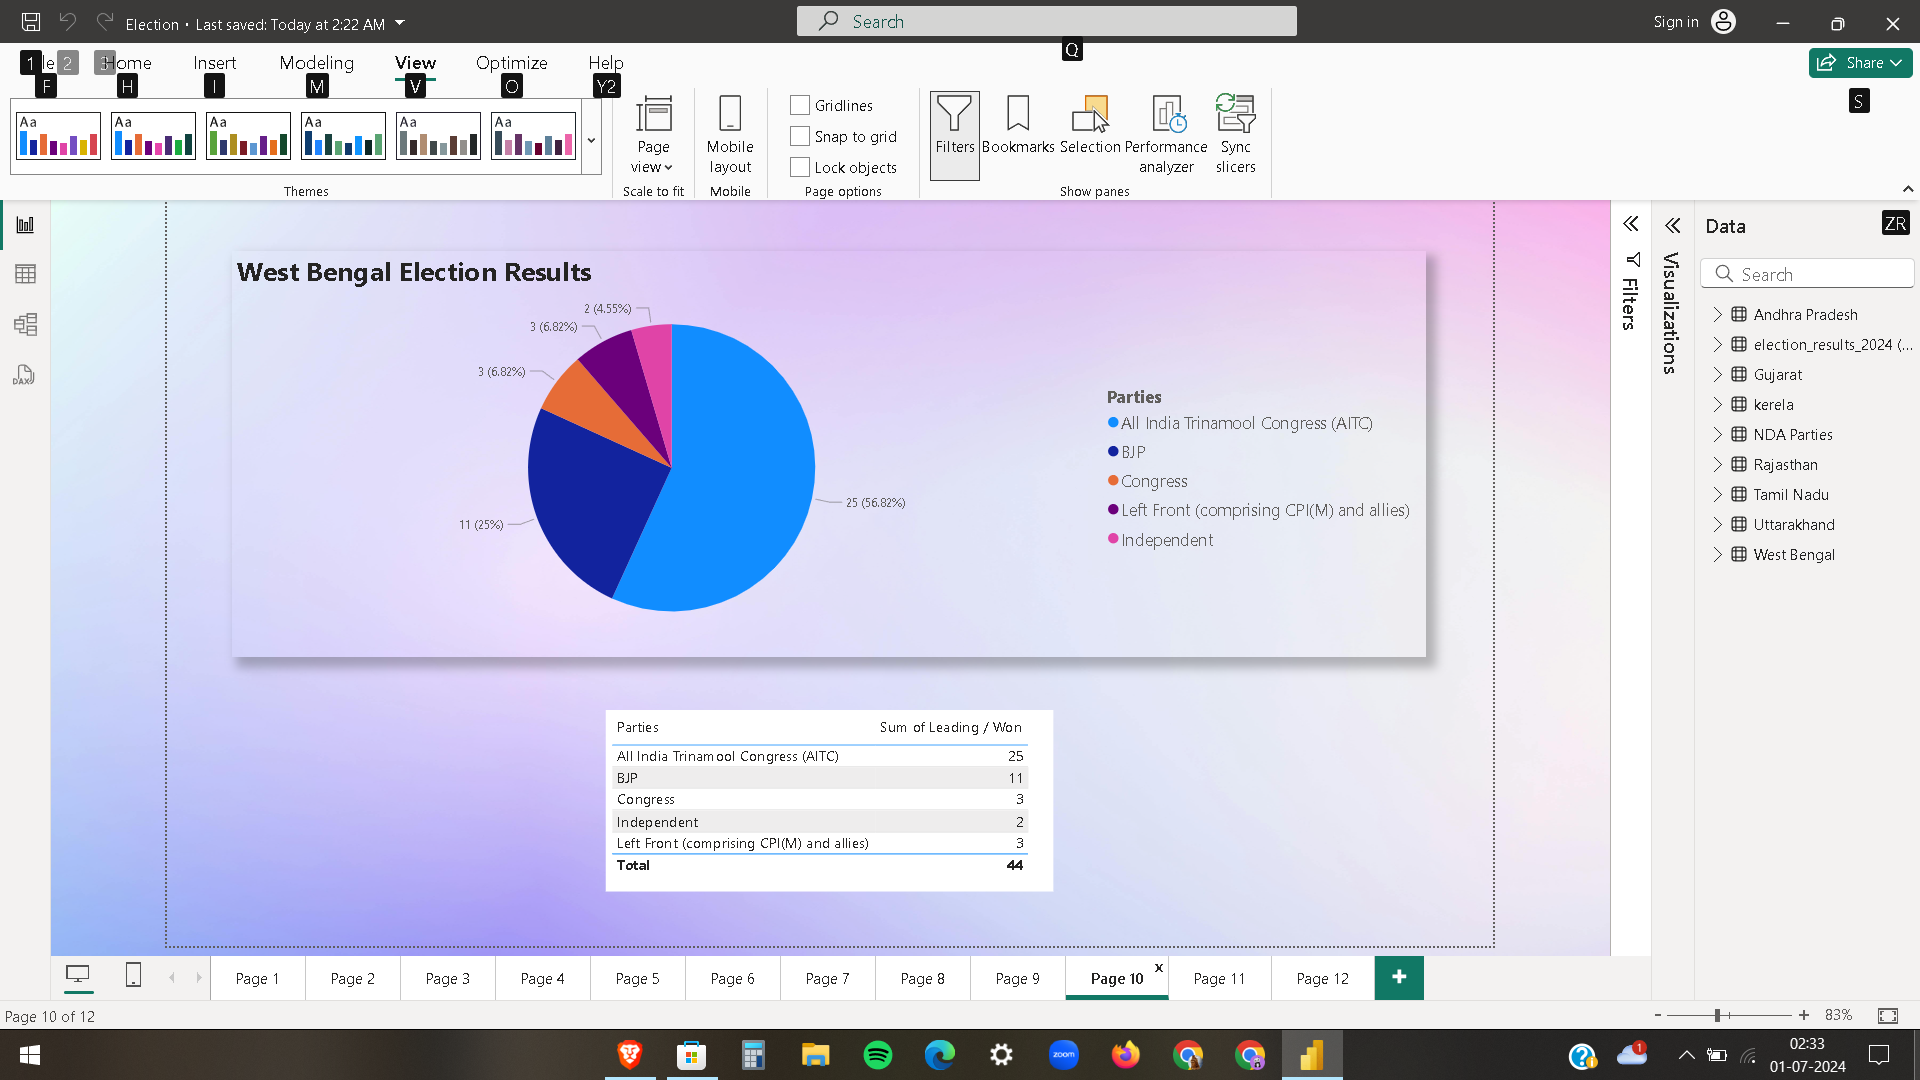

Layout of this report page (visuals, bound fields, positions):
{"tool":"powerbi","page":{"name":"Page 10","canvas":[1280,720],"ordinal":9},"visuals":[{"type":"pieChart","title":"West Bengal Election Results","fields":{"Category":["West Bengal.Parties"],"Y":["Sum(West Bengal.Leading / Won)"]},"box":[62.7,49.5,1152.2,392.1],"z":0},{"type":"tableEx","fields":{"Values":["West Bengal.Parties","Sum(West Bengal.Leading / Won)"]},"box":[423.5,492.2,431.9,174.9],"z":1000}]}

Visuals, with their boxes on the page's 1280x720 design canvas (x1, y1, x2, y2). These are canvas units, not pixel positions in the 1920x1080 screenshot, which may show the page scaled, cropped or inside an application window:
"West Bengal Election Results" pieChart: (x1=63, y1=50, x2=1215, y2=442)
tableEx - West Bengal.Parties x Sum(West Bengal.Leading / Won): (x1=424, y1=492, x2=855, y2=667)
